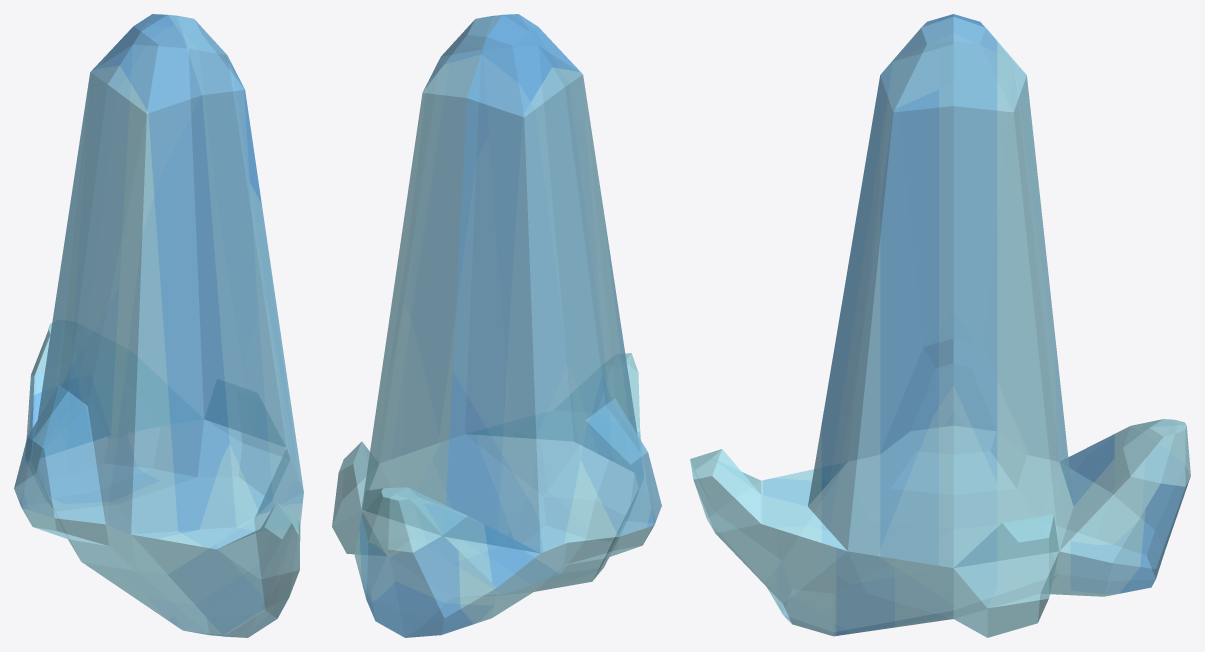
Rendered from PixelCrystal.glb.
3 views of the same model, side by side, from view 1: azimuth 30°, elevation 25°; view 2: azimuth 150°, elevation 25°; view 3: azimuth 270°, elevation 25° (orthographic). The views are drawn at different scales.
Parts seen in each view (by area): view 1: Cube; view 2: Cube; view 3: Cube.
Boxes of the visible parts, x1,y1,x2,y2 form: Cube: (14,14,303,637); Cube: (332,14,661,637); Cube: (690,14,1190,637).
Size of the model in its own units: 2.01 by 3.91 by 2.89.
Materials: 1 (1 with a texture image).
